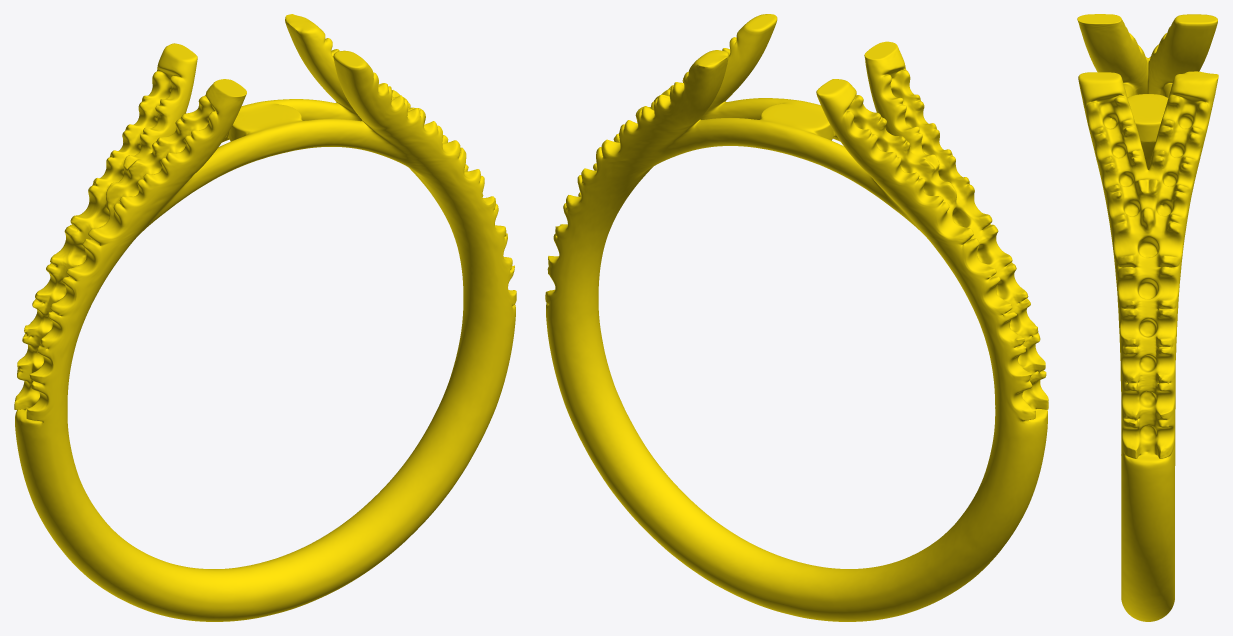
File: Shank_Split_U Prong_A_No, Hidden Halo_Band.glb
3 renders of one model, left to right at view 1: azimuth 30°, elevation 25°; view 2: azimuth 150°, elevation 25°; view 3: azimuth 270°, elevation 25°, orthographic.
Bounding box in the file's own units: 0.0211 × 0.0228 × 0.00532.
